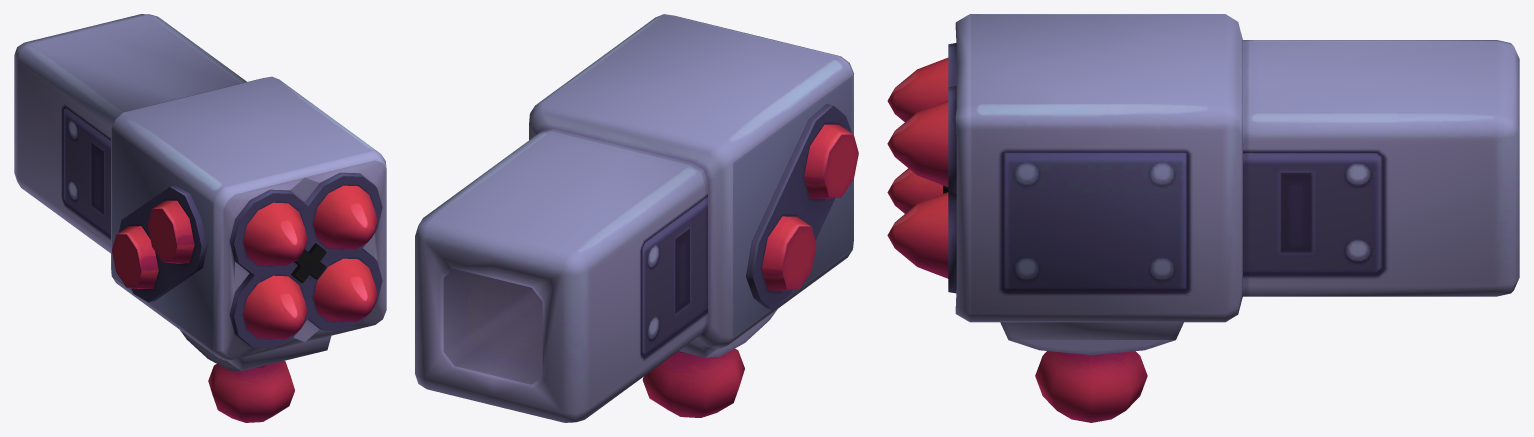
The model's file is brock_Weapon.fbx.
3 renders of one model, left to right at view 1: azimuth 30°, elevation 25°; view 2: azimuth 150°, elevation 25°; view 3: azimuth 270°, elevation 25°, orthographic. The views are drawn at different scales.
Visible parts, largest first — view 1: rocketlauncher, rocketR1, rocketL1, rocketR2, rocketL2; view 2: rocketlauncher; view 3: rocketlauncher, rocketL1, rocketL2, rocketR1, rocketR2.
Part boxes in pixels (left/top/right/bottom): rocketlauncher: left=14, top=14, right=386, bottom=422; rocketR1: left=243, top=202, right=307, bottom=266; rocketL1: left=313, top=185, right=377, bottom=249; rocketR2: left=243, top=275, right=307, bottom=339; rocketL2: left=313, top=258, right=377, bottom=322; rocketlauncher: left=415, top=14, right=858, bottom=422; rocketlauncher: left=943, top=14, right=1519, bottom=422; rocketL1: left=887, top=100, right=948, bottom=186; rocketL2: left=887, top=192, right=948, bottom=278; rocketR1: left=887, top=57, right=948, bottom=121; rocketR2: left=887, top=168, right=942, bottom=213.
Bounding box in the file's own units: 4137 × 5831 × 9367.
Materials: 1 (1 with a texture image).
